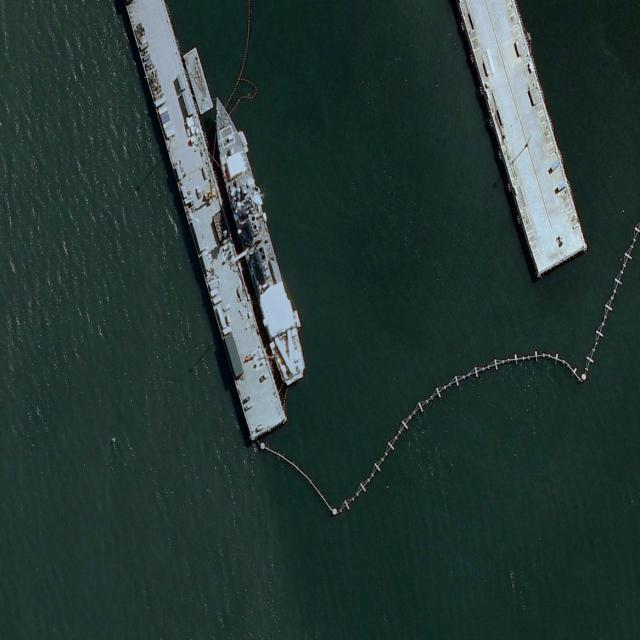Destroyer: (202, 89, 309, 388)
